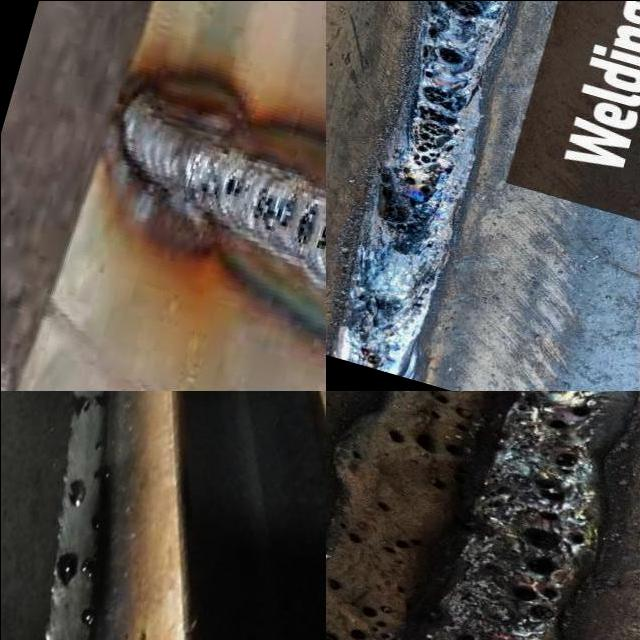defect: (375, 84, 469, 237), (508, 448, 587, 624), (380, 423, 476, 462), (249, 181, 305, 239), (326, 602, 401, 640), (426, 390, 476, 433), (52, 548, 100, 590), (543, 399, 600, 434), (289, 198, 322, 251), (376, 531, 428, 558), (510, 390, 553, 413), (419, 43, 461, 66), (67, 471, 91, 509), (356, 290, 392, 314), (441, 0, 486, 19), (222, 165, 246, 200), (331, 519, 363, 545), (368, 491, 397, 517), (70, 390, 92, 424), (355, 344, 381, 368), (76, 602, 97, 631), (312, 216, 326, 253), (341, 445, 366, 462), (92, 462, 112, 483), (425, 475, 448, 492), (326, 575, 346, 592), (89, 512, 105, 531), (410, 292, 425, 309), (93, 391, 107, 408), (92, 436, 106, 450), (424, 27, 440, 37), (422, 67, 433, 79), (428, 9, 440, 14), (424, 239, 431, 247)
